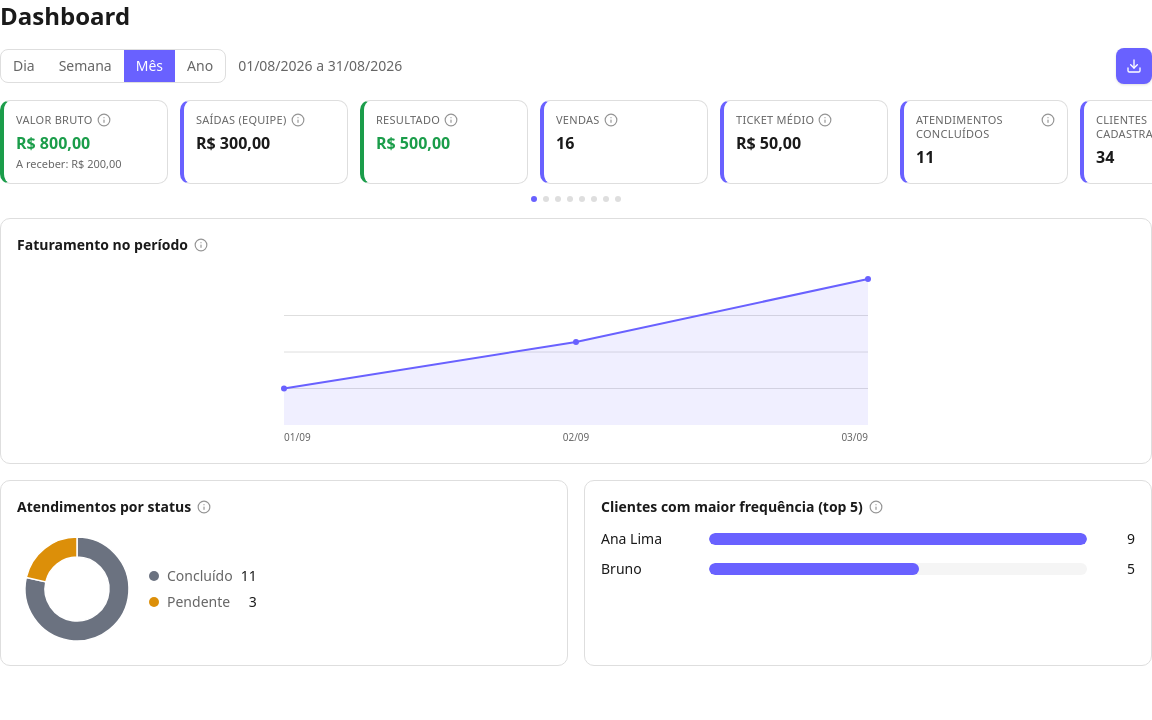
Dashboard (Story 5.6) › mobile: os oito indicadores viram uma faixa rolável e o Exportar CSV vira só ícone
Note: E continua abrindo a confirmação, não baixando direto.
Step 1. Click the button named "Exportar CSV" → point(1134, 66), box x1=1116 y1=48 x2=1151 y2=84
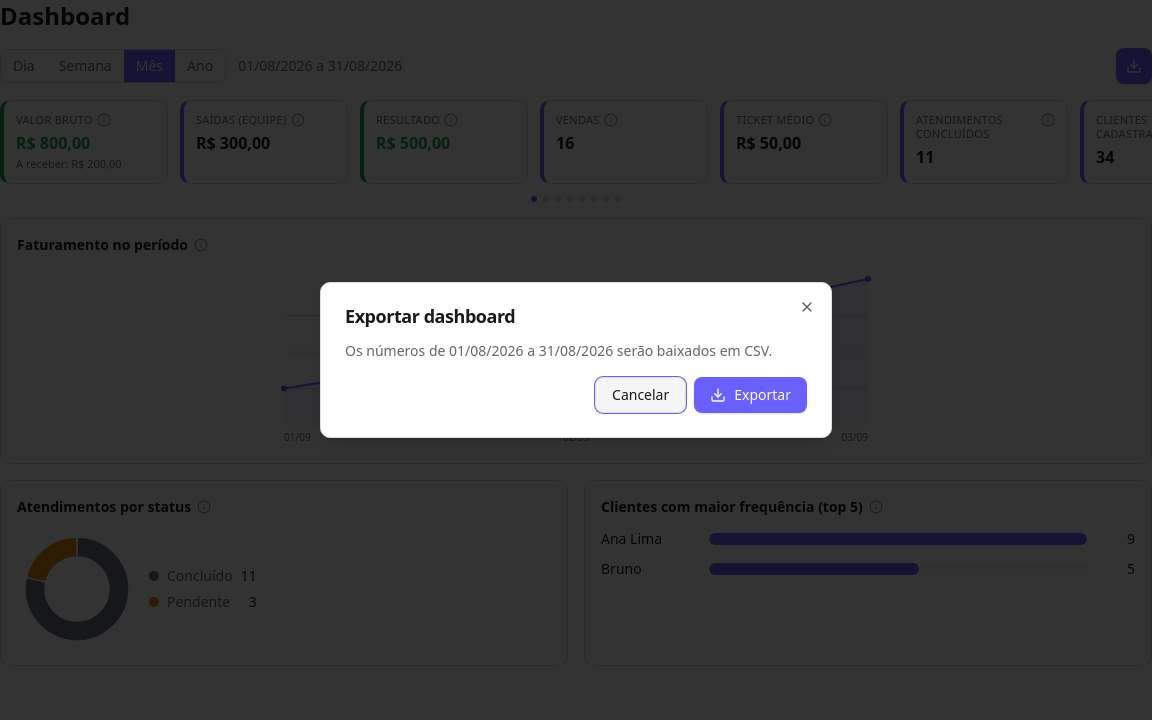
Expected: the heading "Exportar dashboard" is shown, x1=345 y1=304 x2=515 y2=328
